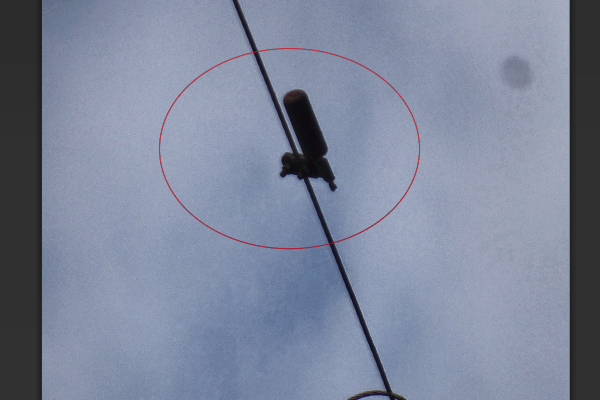damper_defect: (272, 86, 340, 195)
